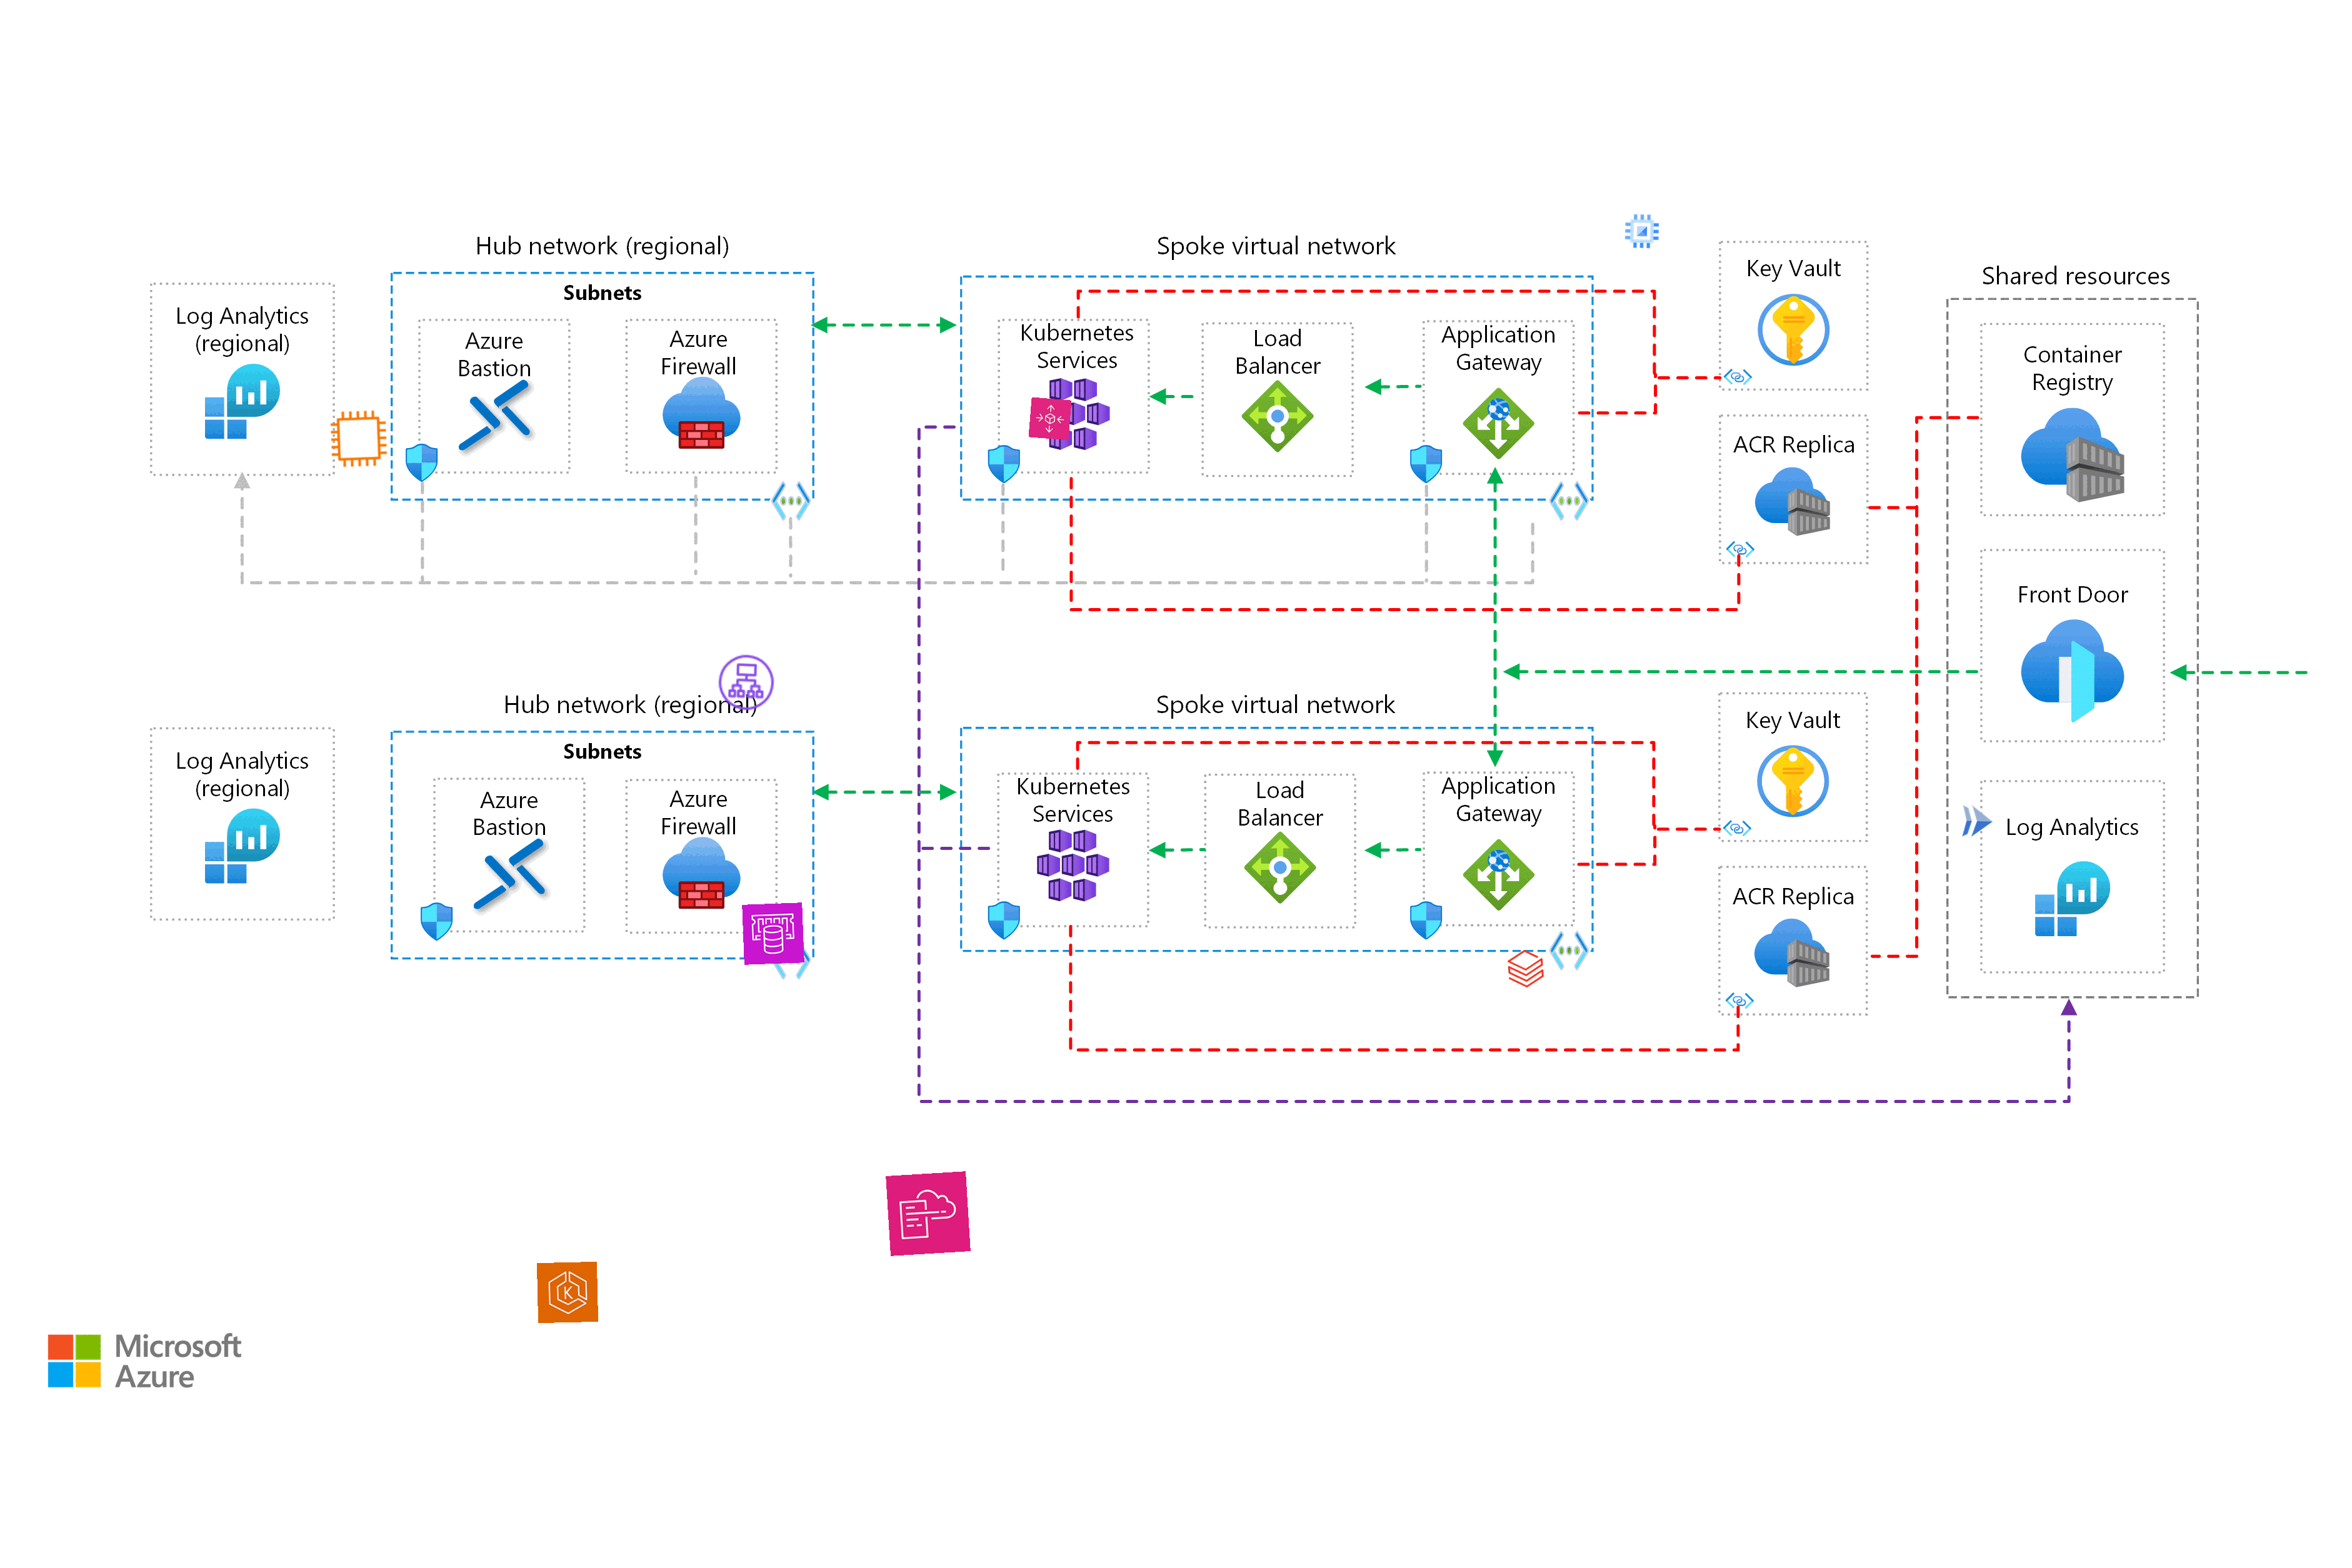aws_amazon_elastic_kubernetes_service: (535, 1262, 598, 1323)
aws_amazon_elasticache: (742, 903, 805, 964)
aws_auto_scaling: (1029, 397, 1073, 441)
aws_cloudformation: (886, 1171, 971, 1256)
aws_ec2_instance: (327, 408, 390, 471)
aws_elastic_load_balancing_application_load_balancer: (716, 651, 777, 714)
azure_databricks: (1503, 947, 1547, 990)
gcp_cloud_run: (1956, 800, 1997, 842)
gcp_compute_engine: (1621, 210, 1662, 252)
